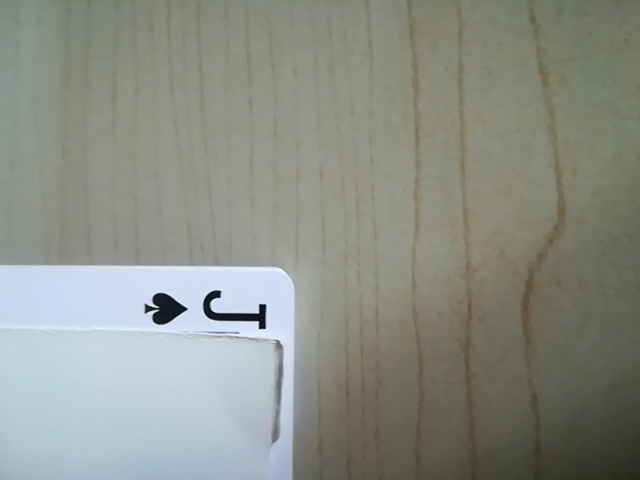ht j: (127, 273, 293, 348)
